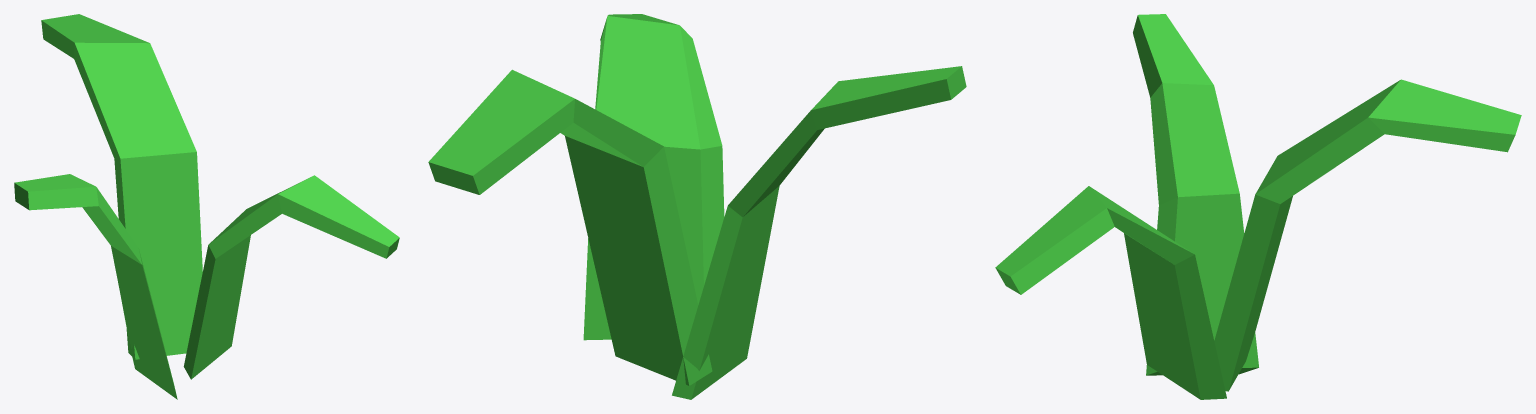
Rendered from GrassPollSmall2.fbx.
The picture shows the model from 3 angles, left to right: view 1: azimuth 30°, elevation 25°; view 2: azimuth 150°, elevation 25°; view 3: azimuth 270°, elevation 25°; orthographic projection. The views are drawn at different scales.
Visible parts, largest first — view 1: GrasspollSmall2; view 2: GrasspollSmall2; view 3: GrasspollSmall2.
Part boxes in pixels (bbox=[...]): GrasspollSmall2: bbox=[14, 14, 399, 399]; GrasspollSmall2: bbox=[428, 14, 966, 399]; GrasspollSmall2: bbox=[995, 14, 1521, 399].
Size of the model in its own units: 58.92 by 47.8 by 75.45.
